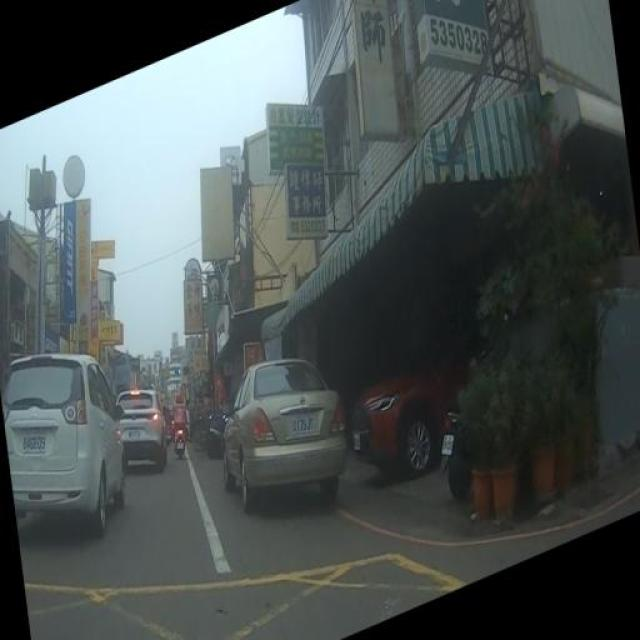illegalparking: (207, 340, 361, 558)
